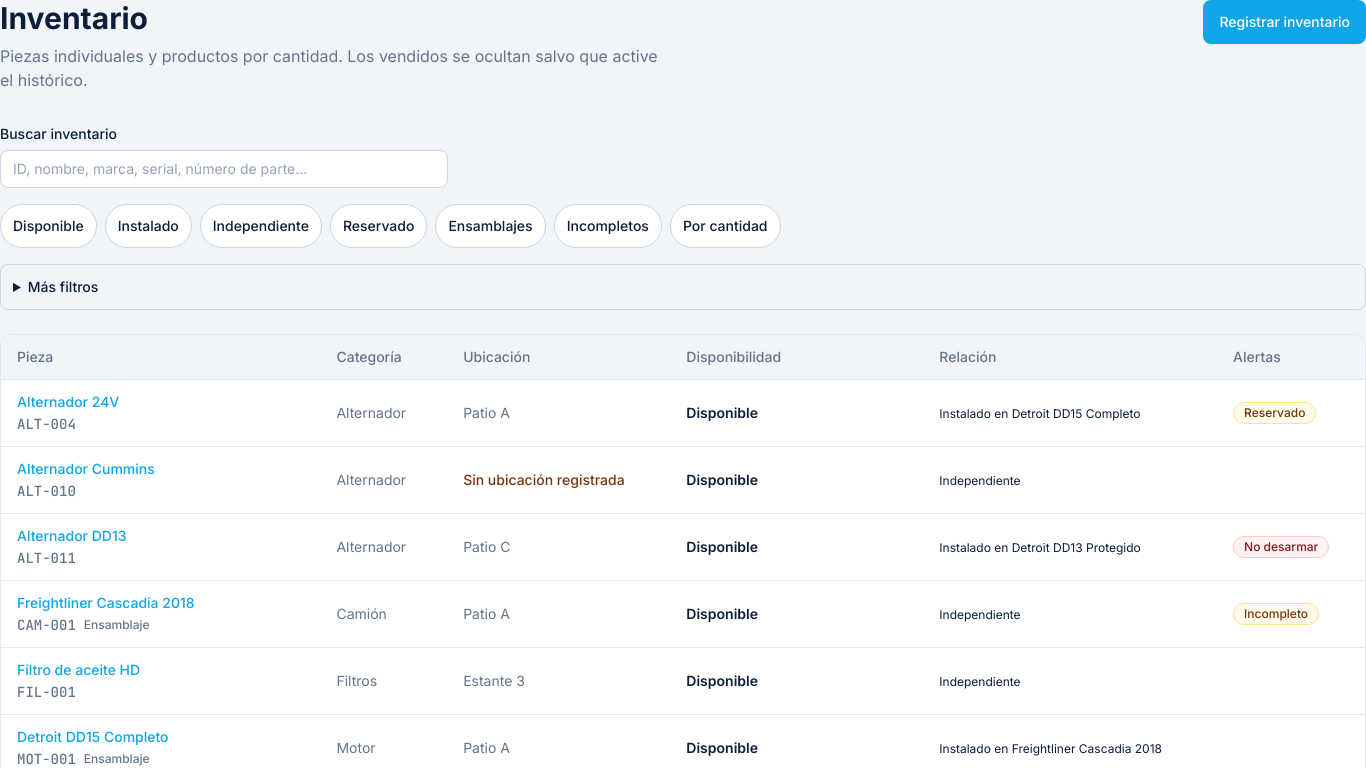
Test: InventoryPage › registers a simple item and refreshes the inventory list
Expected: the text "Filtro de aceite HD" is shown, [17, 661, 140, 678]
Click the button "Registrar inventario" at (1285, 22), box [1204, 0, 1365, 44]
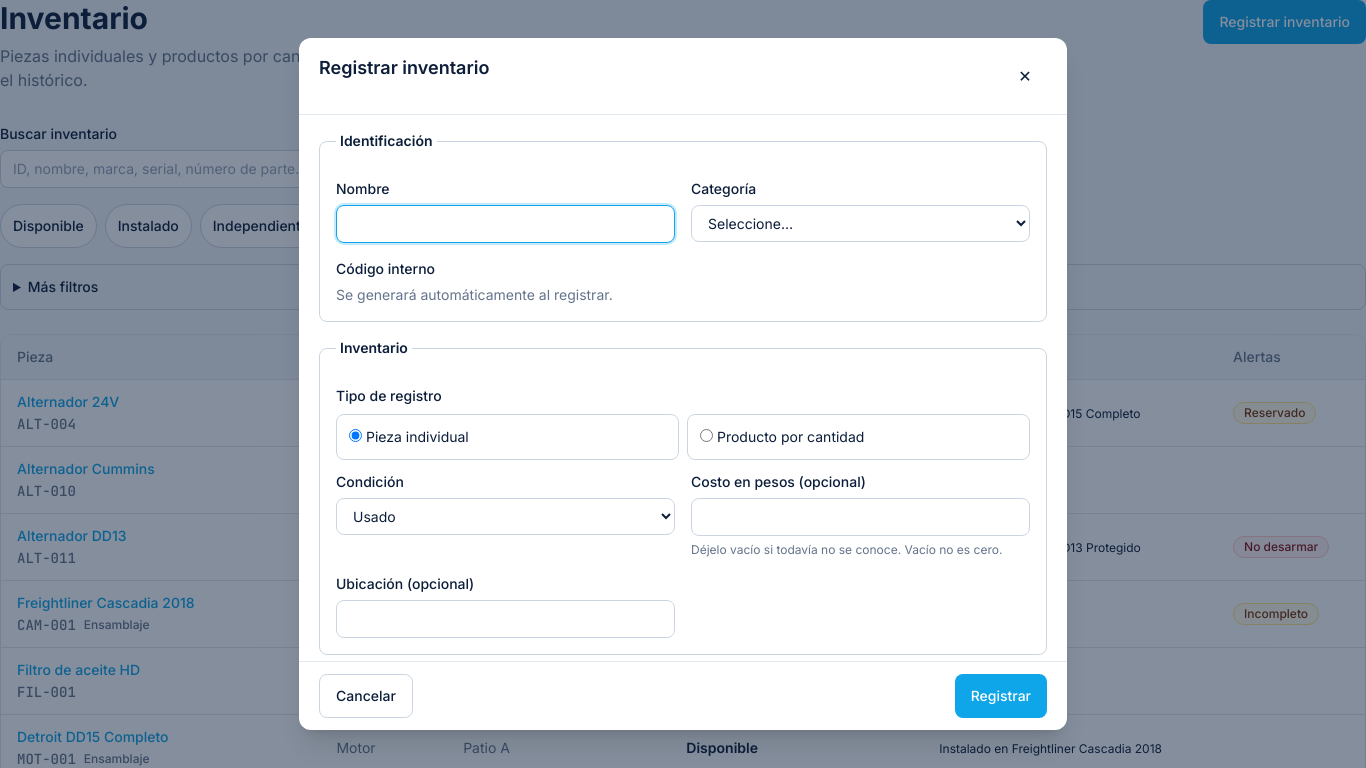
Type "Alternador de mostrador" into the field labelled "Nombre" at (506, 224), box [336, 205, 675, 243]
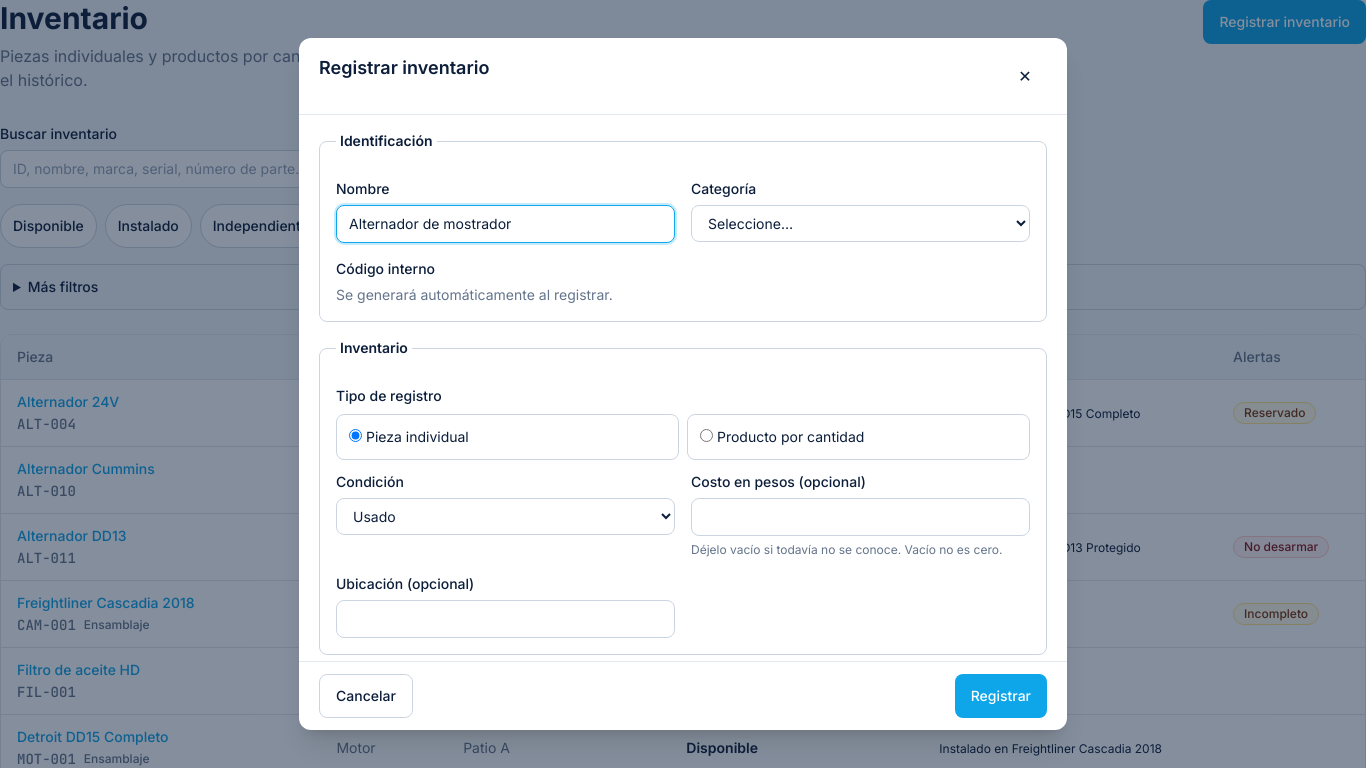
Select "Alternador" in the dropdown labelled "Categoría" at (860, 224), box [691, 205, 1030, 242]
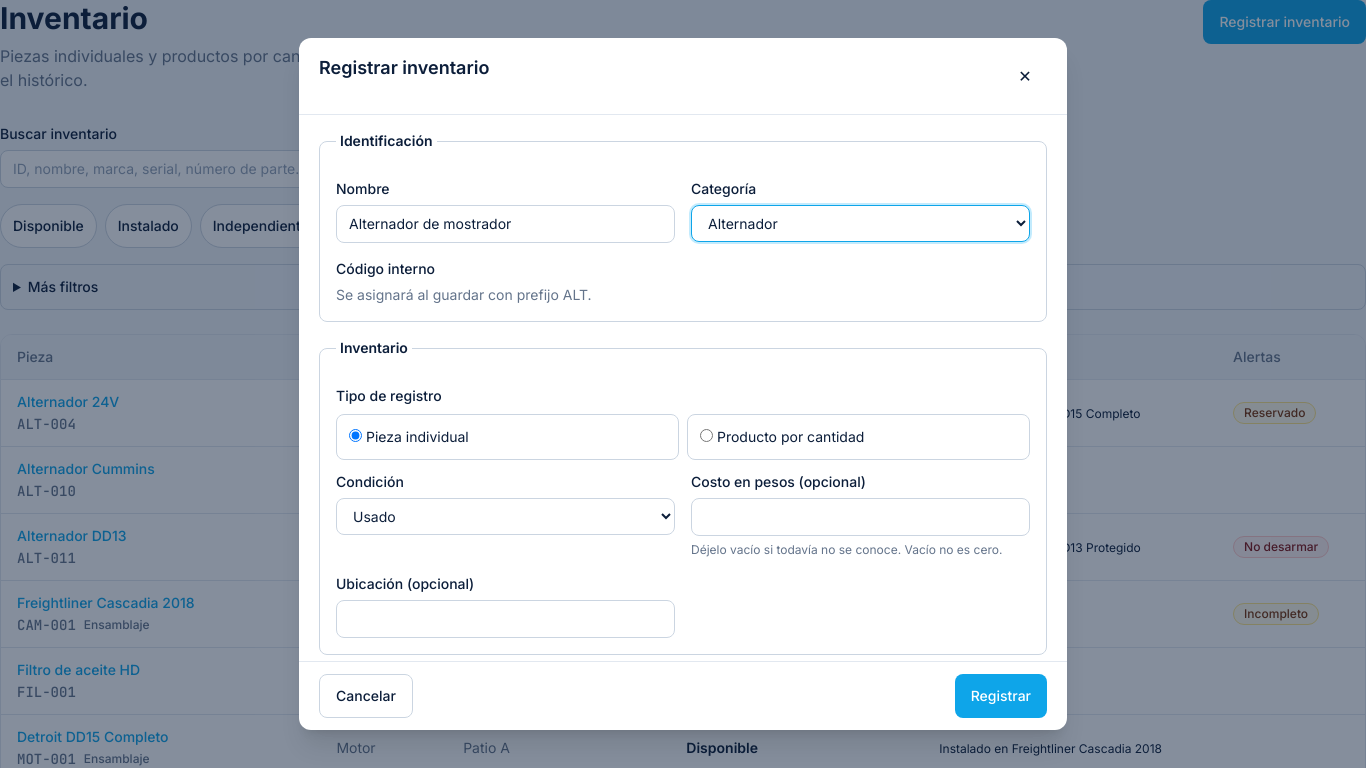
Now the text "Código interno" is shown, box [336, 260, 435, 277]
Now the text "Se asignará al guardar con prefijo ALT." is shown, box [336, 286, 592, 303]
Click the button "Registrar" at (1001, 696), box [955, 674, 1047, 718]
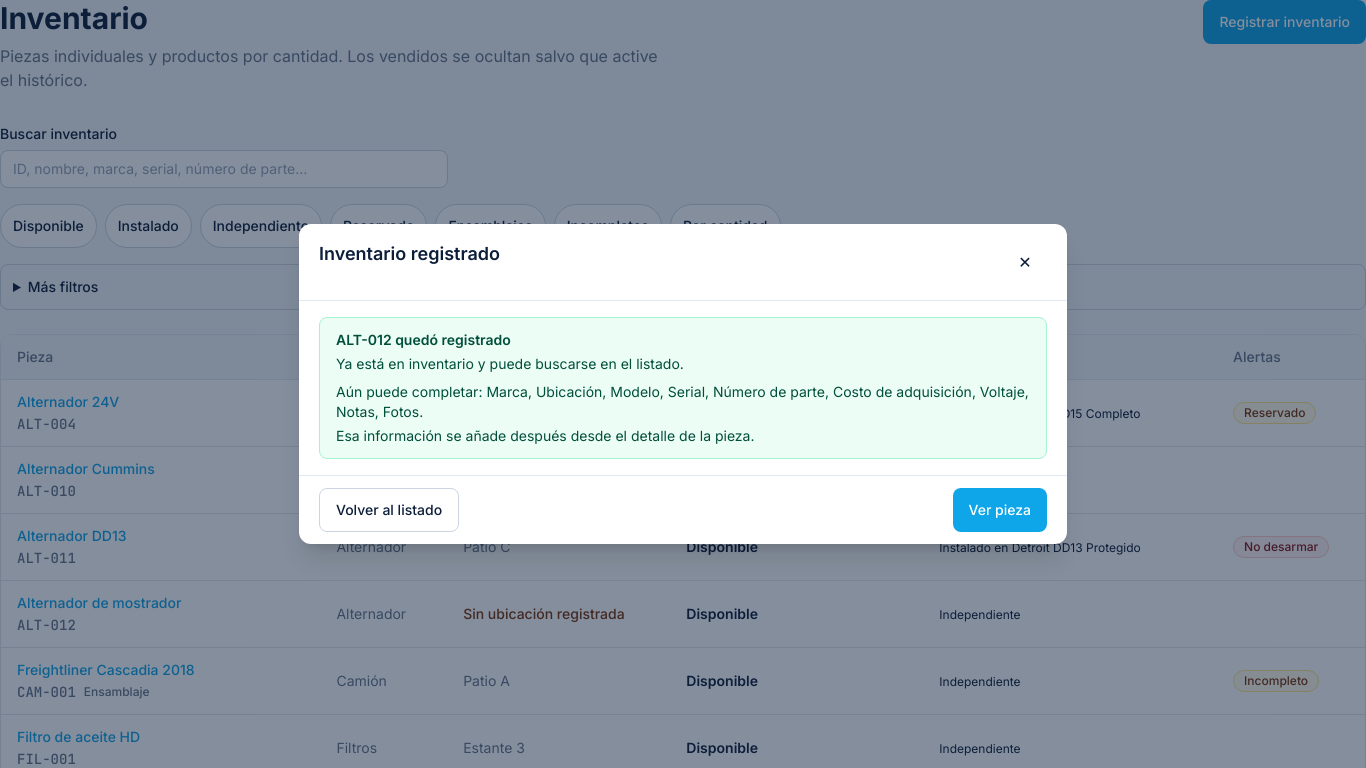
Now the text "Alternador de mostrador" is shown, box [17, 594, 181, 611]
Now the text "ALT-012 quedó registrado" is shown, box [336, 331, 511, 348]
Now the text "Aún puede completar:" is shown, box [336, 383, 486, 400]
Click the button "Volver al listado" at (389, 510), box [319, 488, 459, 532]
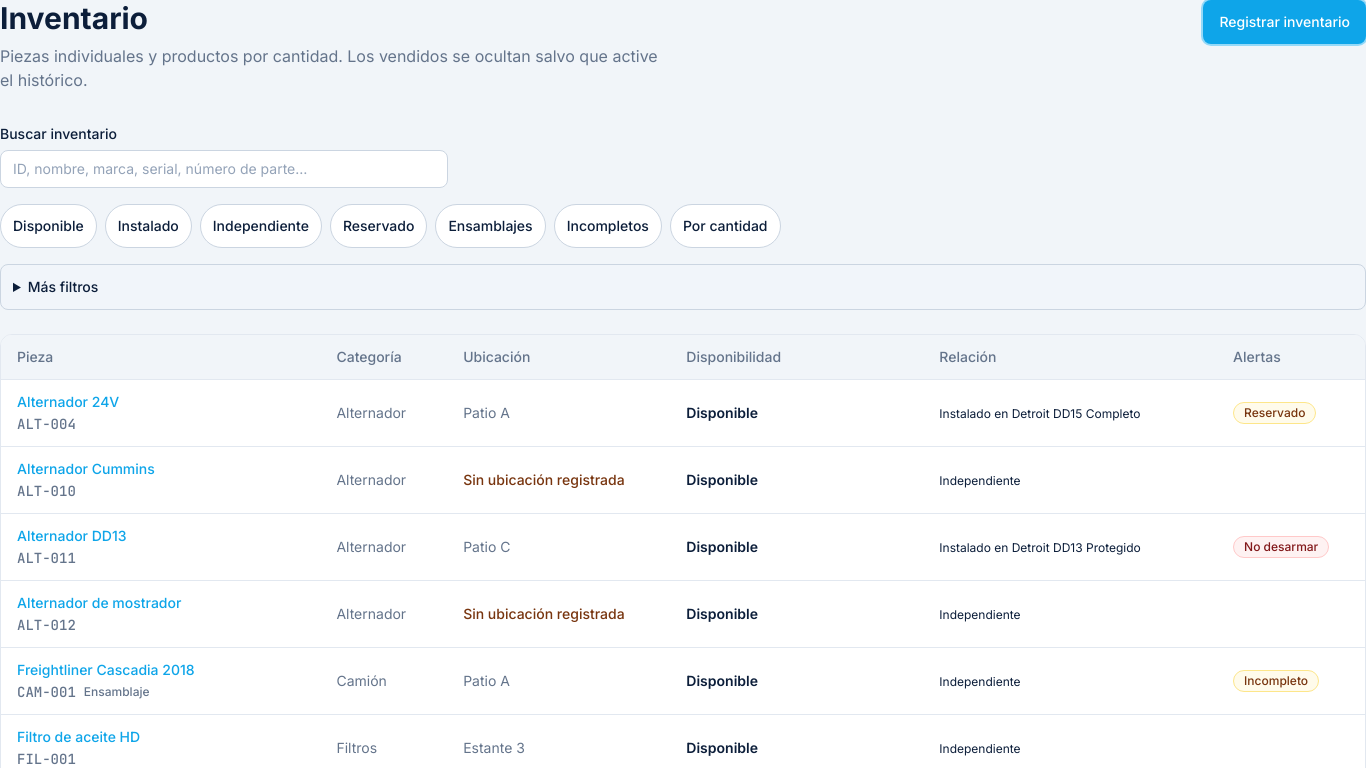
Now the dialog is gone
